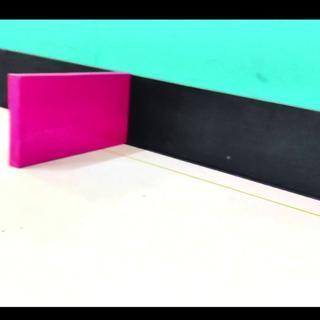xparking: (16, 80, 124, 162)
